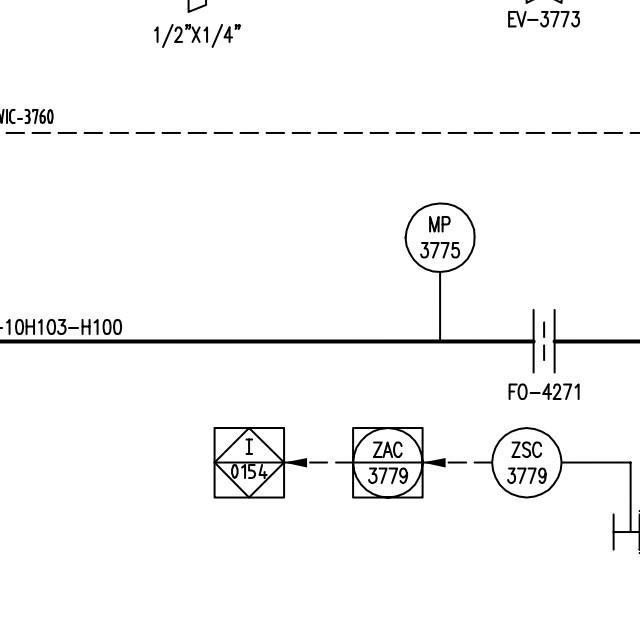O: (522, 302, 564, 380)
